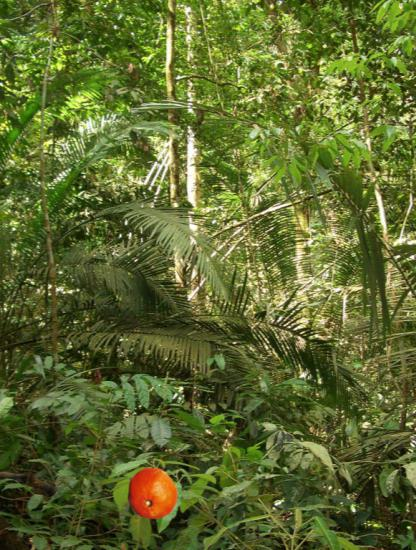Clementine: (124, 466, 179, 521)
